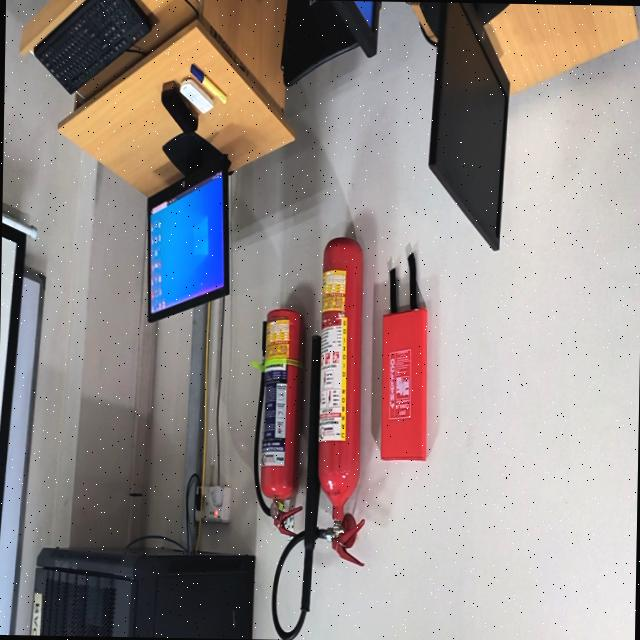Chair: (281, 0, 357, 87)
Fire Extinguisher: (318, 237, 363, 523), (258, 308, 304, 517)
Keyboard: (34, 0, 151, 93)
Monitor: (409, 2, 509, 250), (147, 133, 231, 322), (328, 0, 381, 57)
